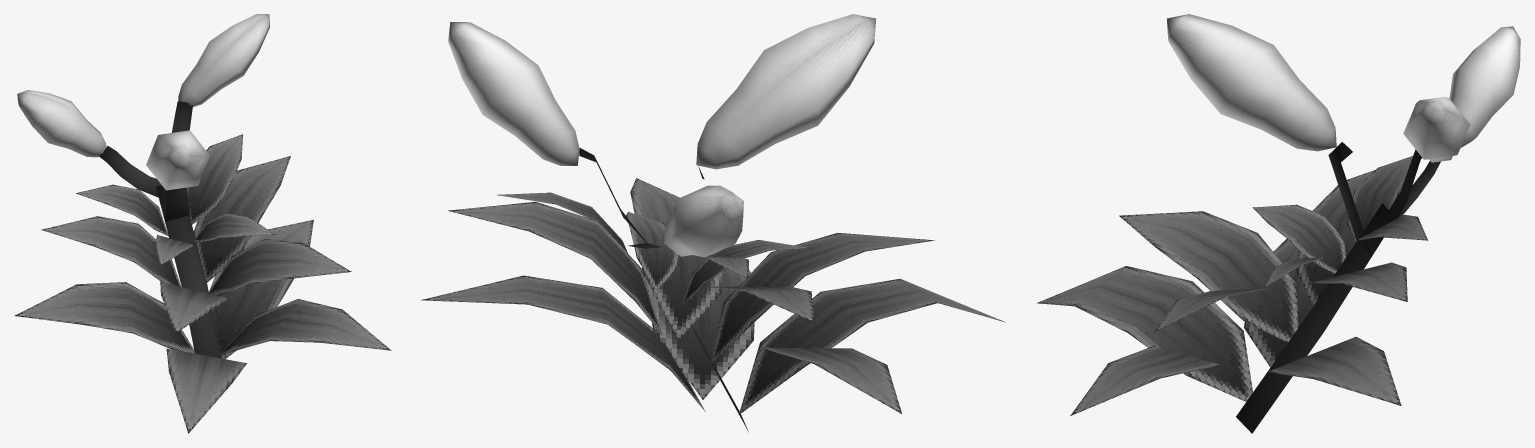
Rendered from PltFlwYuri0.glb.
3 views of the same model, side by side, from view 1: azimuth 30°, elevation 25°; view 2: azimuth 150°, elevation 25°; view 3: azimuth 270°, elevation 25° (orthographic). The views are drawn at different scales.
Visible parts, largest first — view 1: Bud01__mFlowerBodyYuri; view 2: Bud01__mFlowerBodyYuri; view 3: Bud01__mFlowerBodyYuri.
Part boxes in pixels (x1,y1,x2,y2): Bud01__mFlowerBodyYuri: [14, 14, 391, 433]; Bud01__mFlowerBodyYuri: [421, 14, 1005, 431]; Bud01__mFlowerBodyYuri: [1037, 14, 1520, 433].
Bounding box in the file's own units: 5.11 × 4.62 × 5.09.
Materials: 1 (1 with a texture image).
